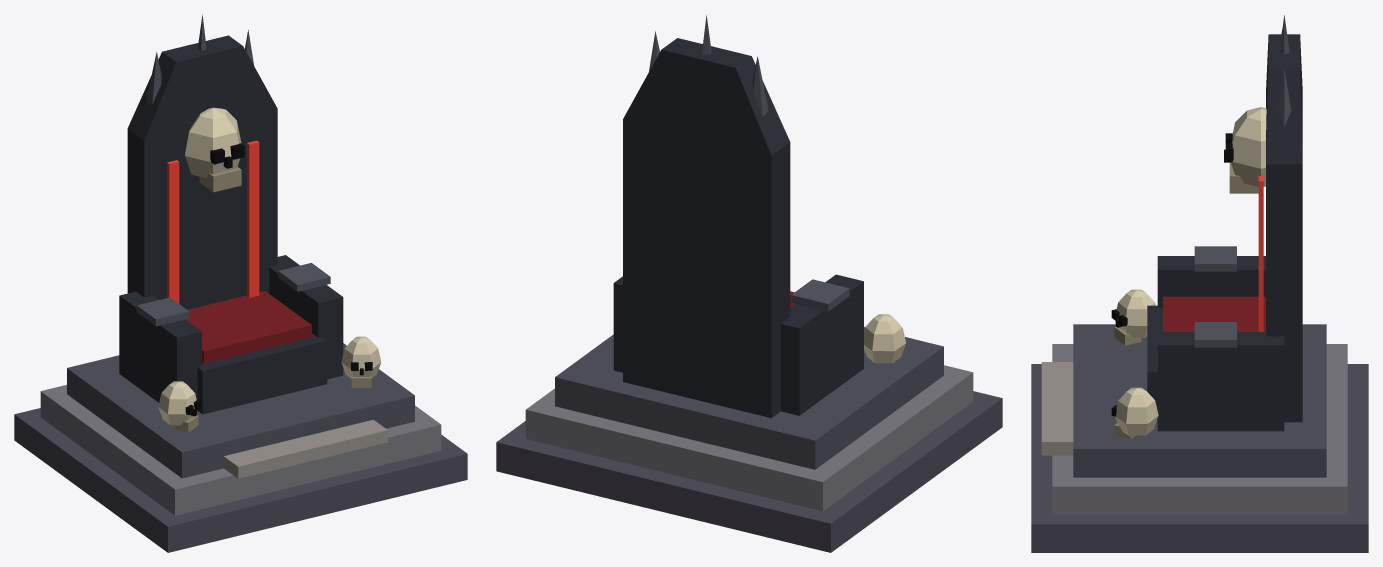
File: throne_dark.fbx
3 views of the same model, side by side, from view 1: azimuth 30°, elevation 25°; view 2: azimuth 150°, elevation 25°; view 3: azimuth 270°, elevation 25° (orthographic). The views are drawn at different scales.
Visible parts, largest first — view 1: throne_dark; view 2: throne_dark; view 3: throne_dark.
Boxes of the visible parts, x1=… form: throne_dark: x1=14, y1=14, x2=467, y2=552; throne_dark: x1=496, y1=15, x2=1002, y2=552; throne_dark: x1=1031, y1=15, x2=1368, y2=552.
Bounding box in the file's own units: 3.6 × 4.8 × 3.2.
